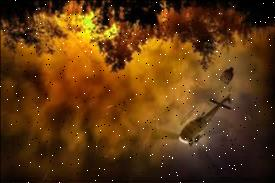fire: (21, 0, 121, 55)
